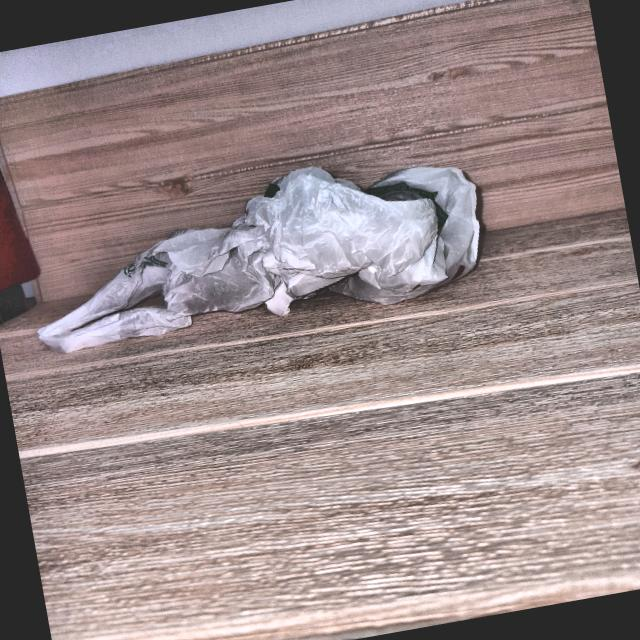plastic bag: (24, 136, 510, 372)
